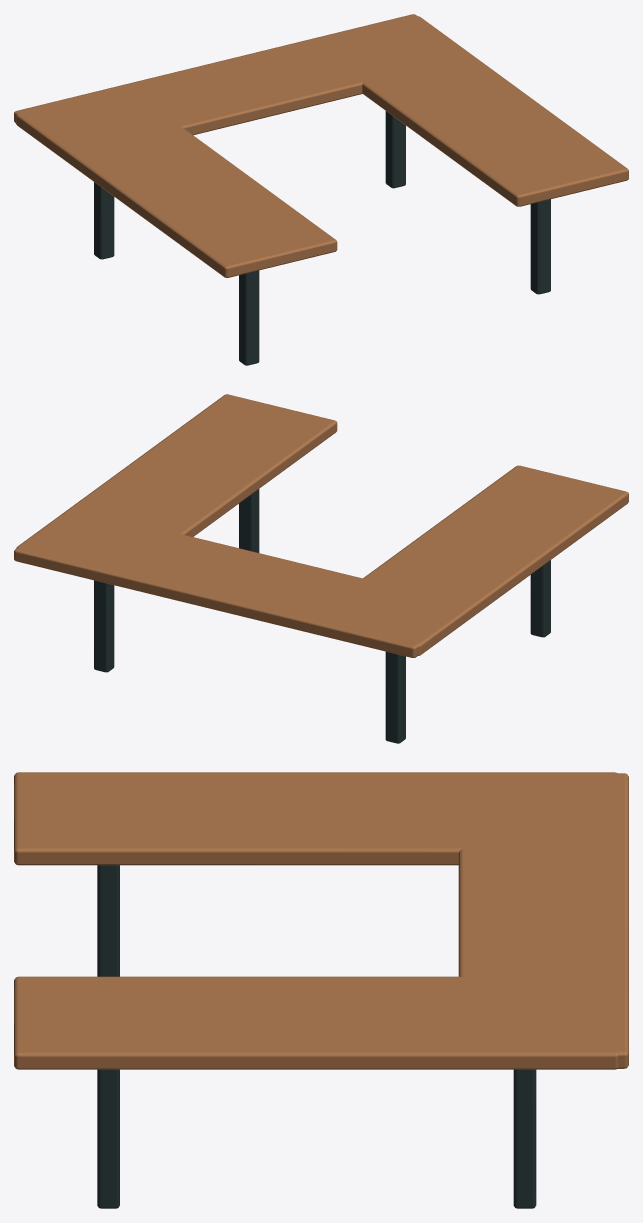
File: wp-table-de-conference-en-u.glb
3 views of the same model, one above another, from view 1: azimuth 30°, elevation 25°; view 2: azimuth 150°, elevation 25°; view 3: azimuth 270°, elevation 25° (orthographic). The views are drawn at different scales.
Visible parts, largest first — view 1: wp-table-de-conference-en-u; view 2: wp-table-de-conference-en-u; view 3: wp-table-de-conference-en-u.
Part boxes in pixels (x1,y1,x2,y2): wp-table-de-conference-en-u: [14, 14, 628, 365]; wp-table-de-conference-en-u: [14, 394, 628, 743]; wp-table-de-conference-en-u: [14, 772, 628, 1208].
Size of the model in its own units: 2.4 by 0.75 by 2.2.
